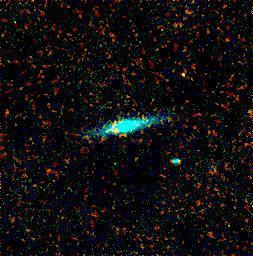star: (101, 118, 131, 148)
